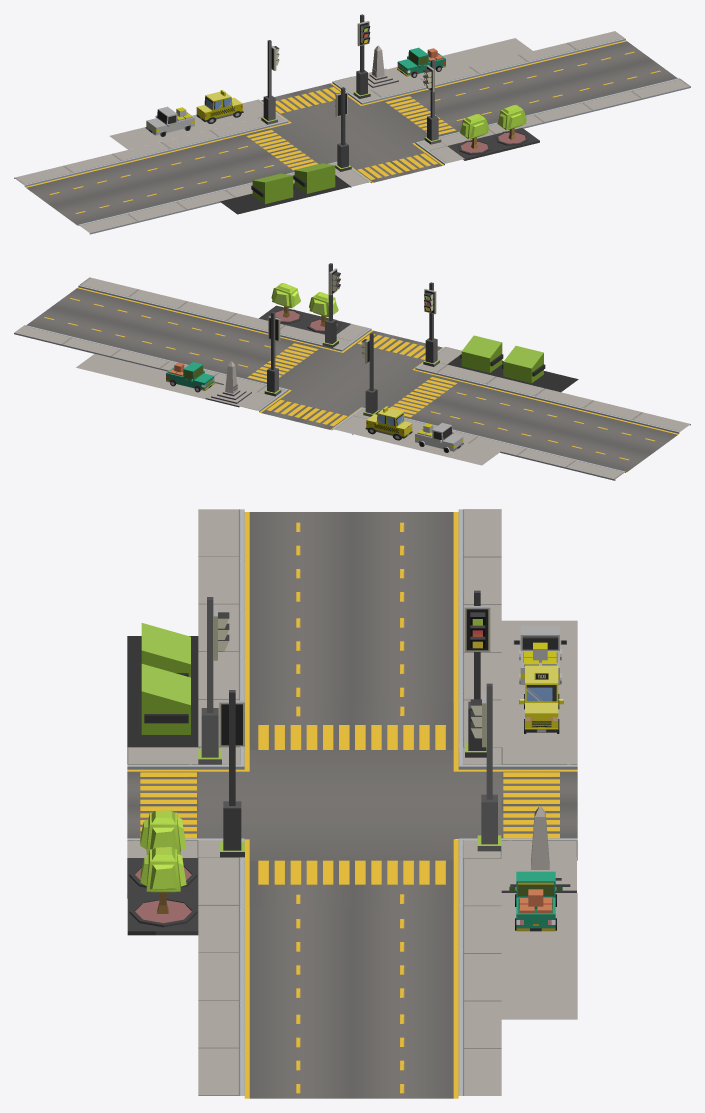
Rendered from CrossRoads03.fbx.
The picture shows the model from 3 angles, top to bottom: view 1: azimuth 30°, elevation 25°; view 2: azimuth 150°, elevation 25°; view 3: azimuth 270°, elevation 25°; orthographic projection. The views are drawn at different scales.
Parts seen in each view (by area): view 1: BR_CrossRoads01; view 2: BR_CrossRoads01; view 3: BR_CrossRoads01.
Boxes of the visible parts, x1,y1,x2,y2 form: BR_CrossRoads01: [14, 14, 690, 234]; BR_CrossRoads01: [14, 263, 690, 480]; BR_CrossRoads01: [127, 509, 577, 1098].
Bounding box in the file's own units: 12326 × 1616 × 4000.
1 material, 1 textured.
